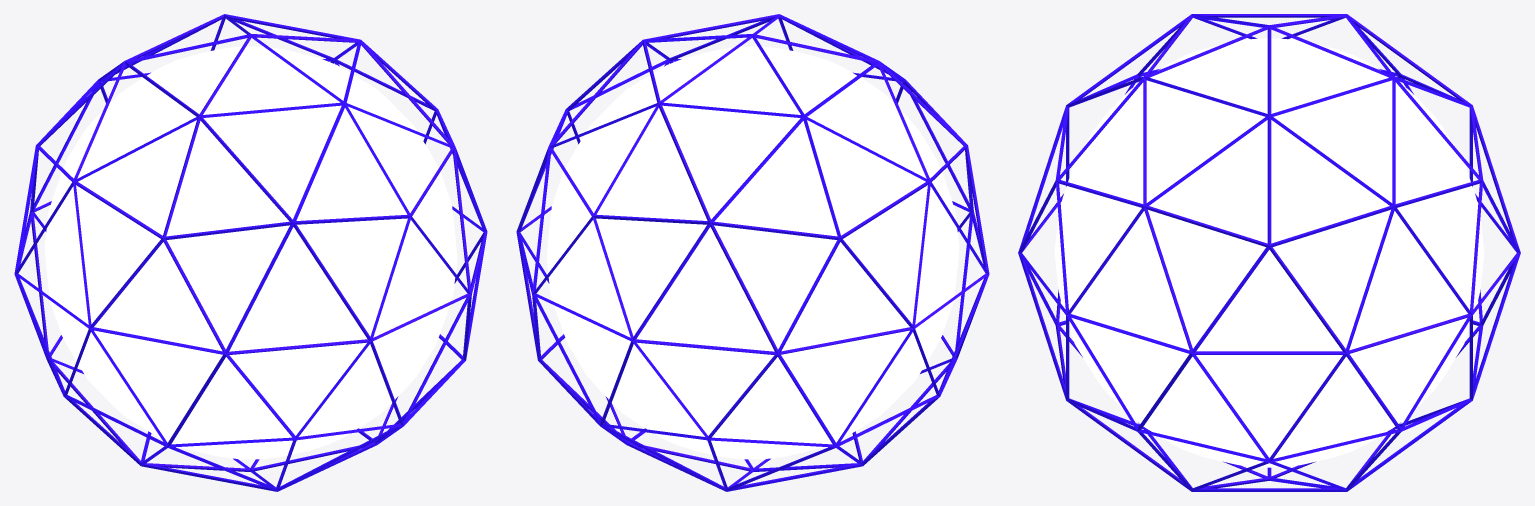
3 renders of one model, left to right at view 1: azimuth 30°, elevation 25°; view 2: azimuth 150°, elevation 25°; view 3: azimuth 270°, elevation 25°, orthographic. The views are drawn at different scales.
Parts seen in each view (by area): view 1: Sphere, Icosphere; view 2: Sphere, Icosphere; view 3: Sphere, Icosphere.
Boxes of the visible parts, x1,y1,x2,y2 form: Sphere: (44, 46, 457, 459); Icosphere: (14, 14, 487, 491); Sphere: (546, 46, 959, 459); Icosphere: (516, 14, 989, 491); Sphere: (1054, 38, 1484, 467); Icosphere: (1018, 14, 1520, 491).
Bounding box in the file's own units: 3.04 × 3.2 × 3.2.
